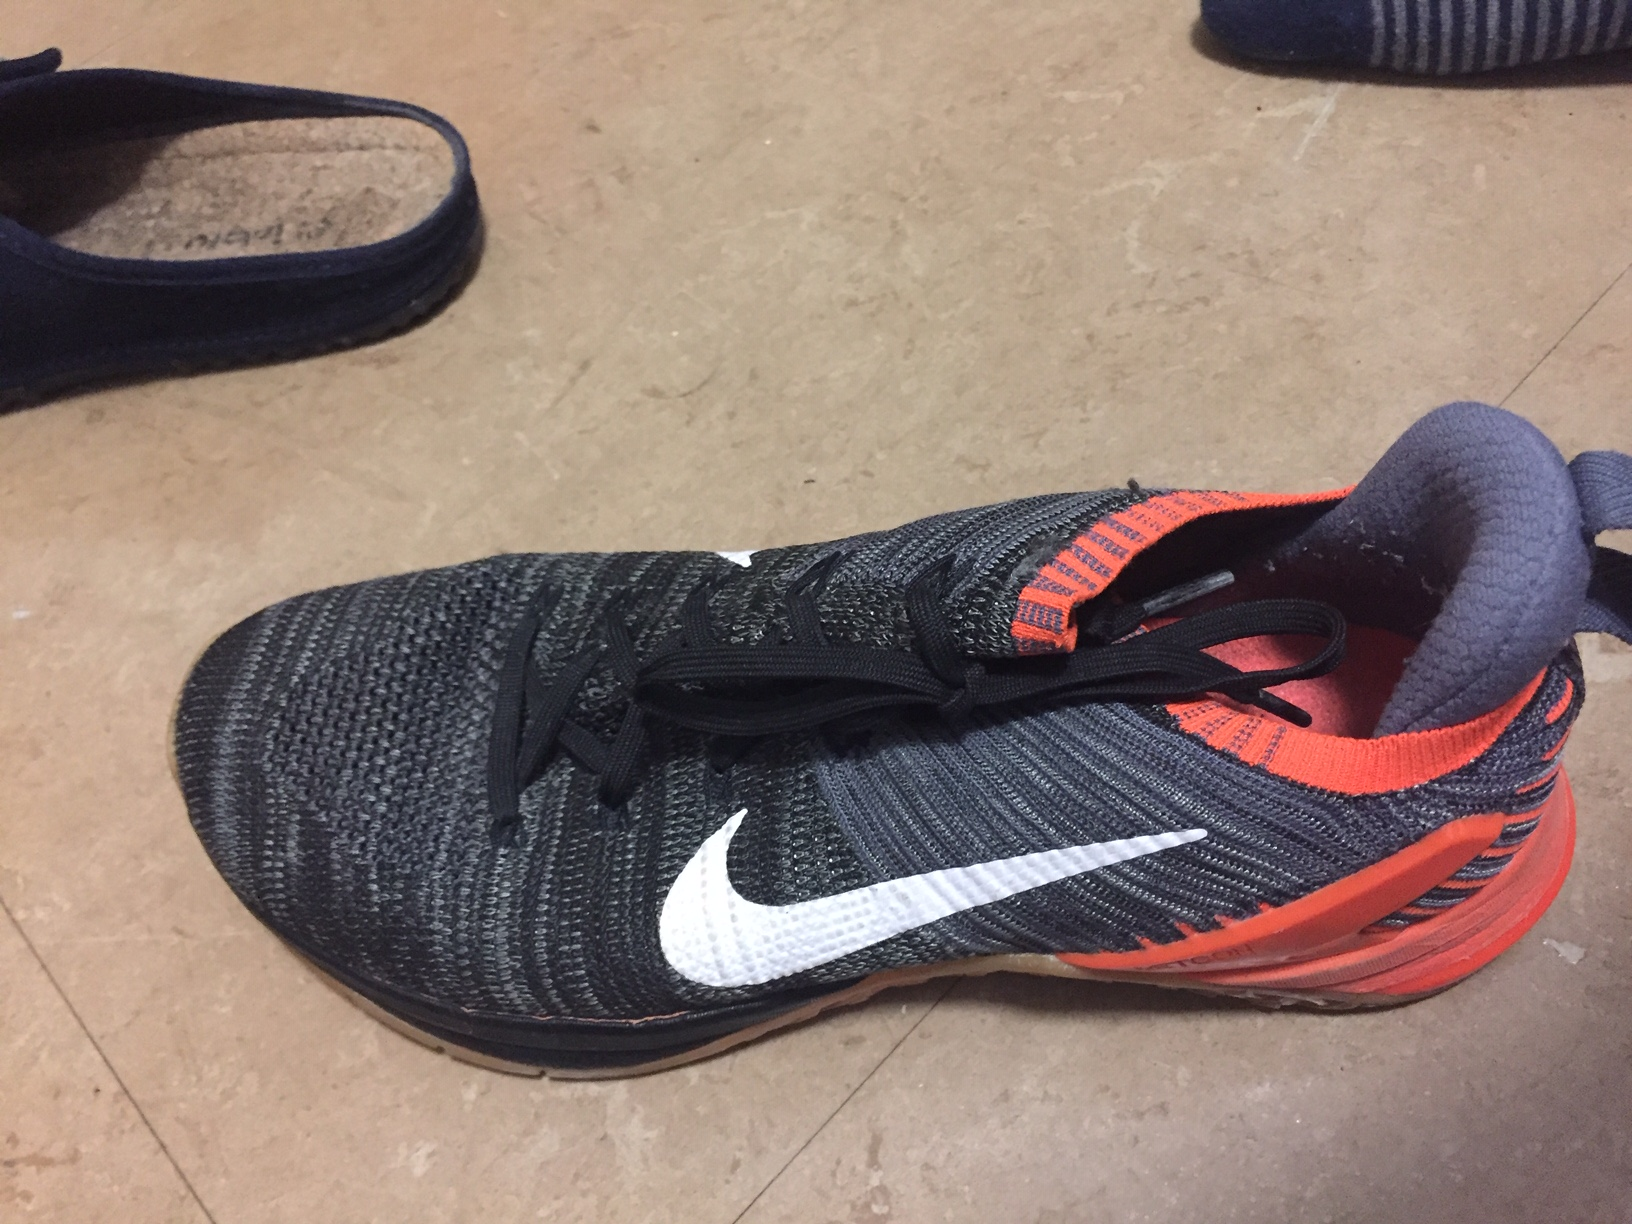car: (164, 402, 1626, 1112)
